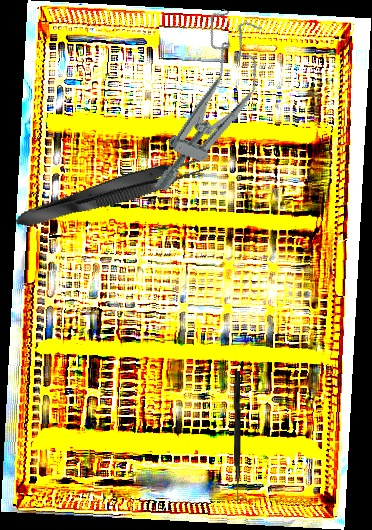Hook Surgical: (232, 370, 243, 505)
Speculum: (141, 5, 279, 208)
Tissue Forceps: (11, 149, 213, 235)
